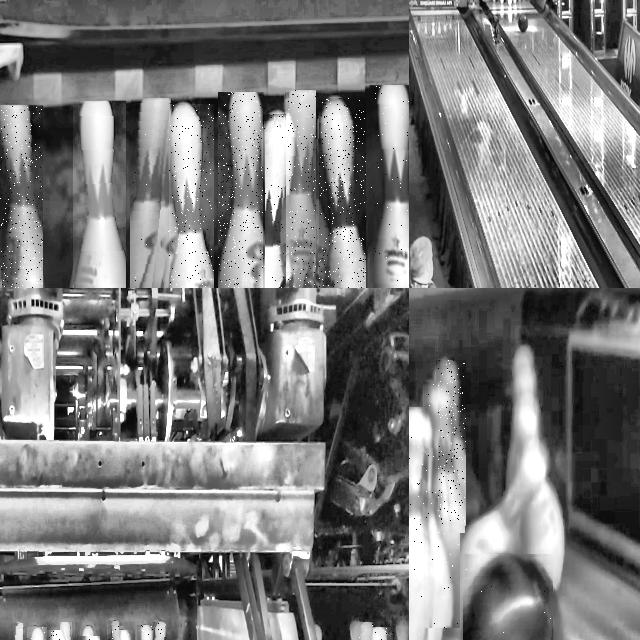bowling-ball: (466, 555, 553, 640)
bowling-pins: (74, 102, 126, 288), (166, 105, 214, 288), (218, 93, 263, 288), (320, 98, 366, 288), (426, 382, 459, 628), (0, 105, 43, 288), (371, 86, 409, 288), (131, 98, 168, 288), (252, 114, 291, 288), (409, 408, 434, 640), (288, 90, 315, 288), (438, 361, 465, 524), (360, 623, 373, 640), (351, 620, 361, 640), (60, 622, 70, 640)
